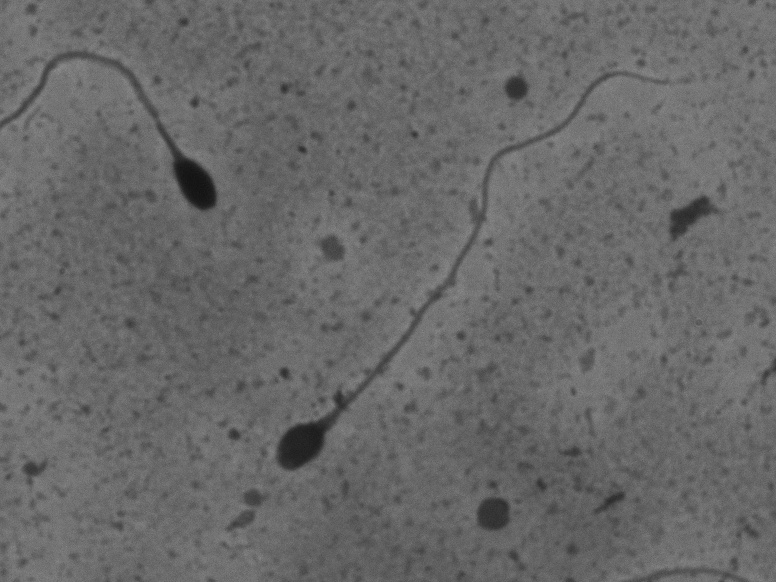Normal: (271, 53, 706, 494), (13, 29, 241, 255)
